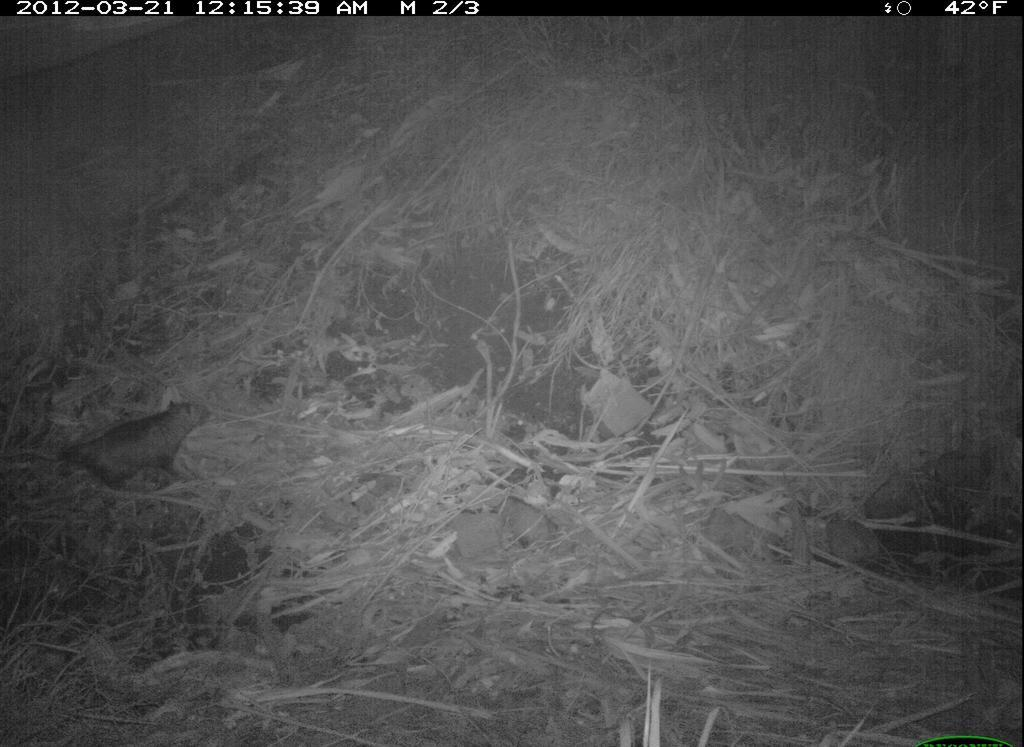opossum: (61, 383, 224, 500)
